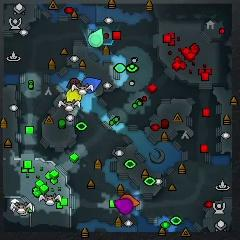p1: (81, 77, 101, 93)
p2: (88, 28, 104, 48)
p3: (113, 199, 133, 214)
p4: (66, 88, 82, 103)
p5: (122, 194, 140, 207)
